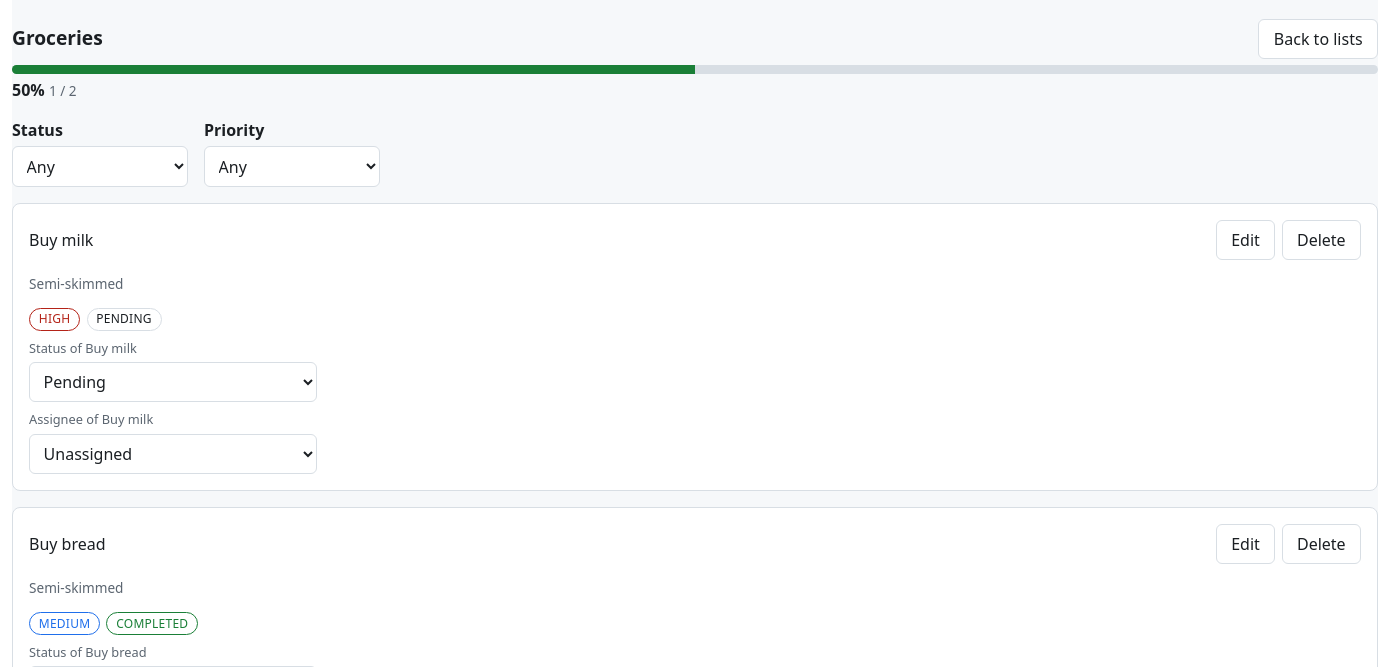
Test: filtering › narrows the rows while the bar keeps describing the whole list (ADR-009)
Expected: the text "Buy bread" is shown, x1=29 y1=532 x2=106 y2=556
Step 1. Select "High" in the dropdown labelled "Priority" → {"x": 292, "y": 167}, box x1=204 y1=146 x2=380 y2=187
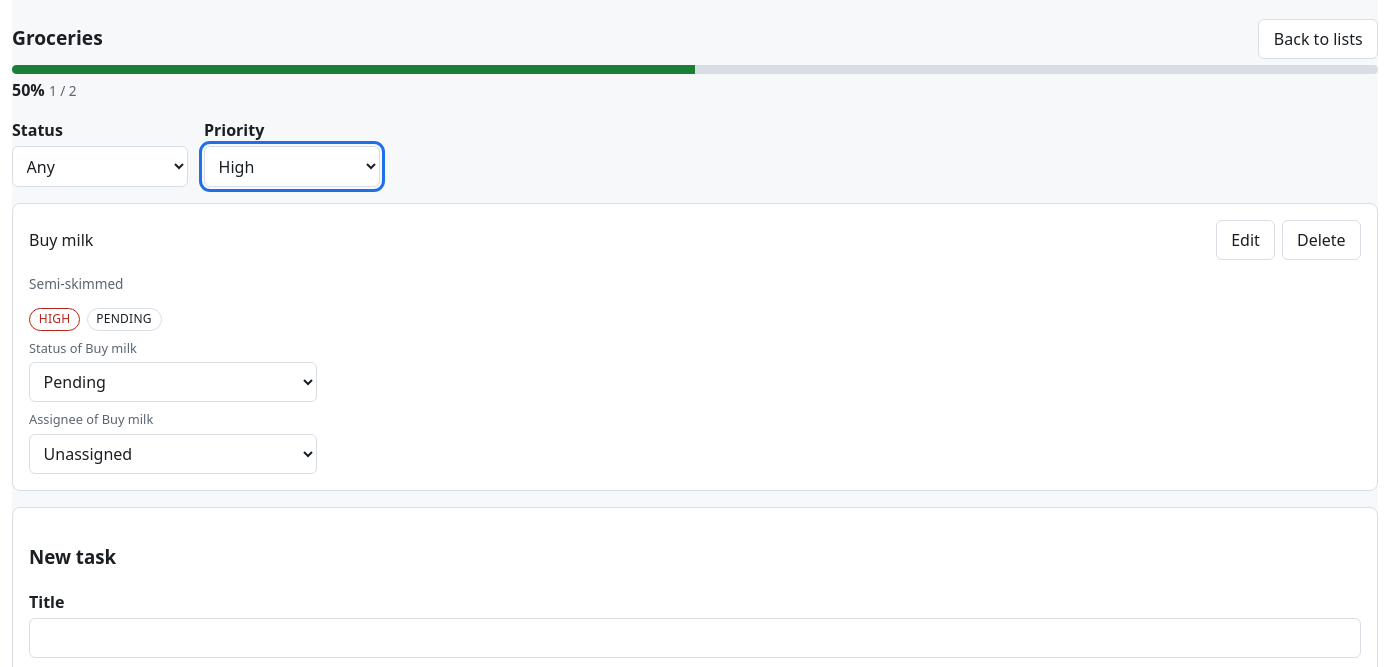
Expected: the text "Buy milk" is shown, x1=29 y1=228 x2=93 y2=252
Expected: the text "Buy bread" is gone
Expected: the number of list items is 1, x1=12 y1=203 x2=1378 y2=491
